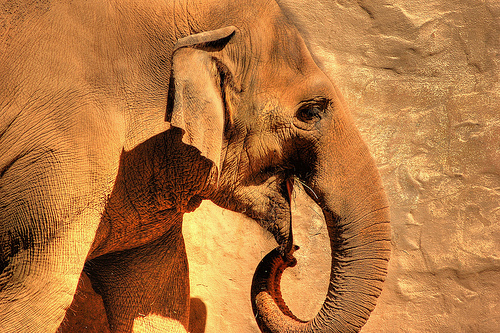elephant: (1, 1, 395, 332)
